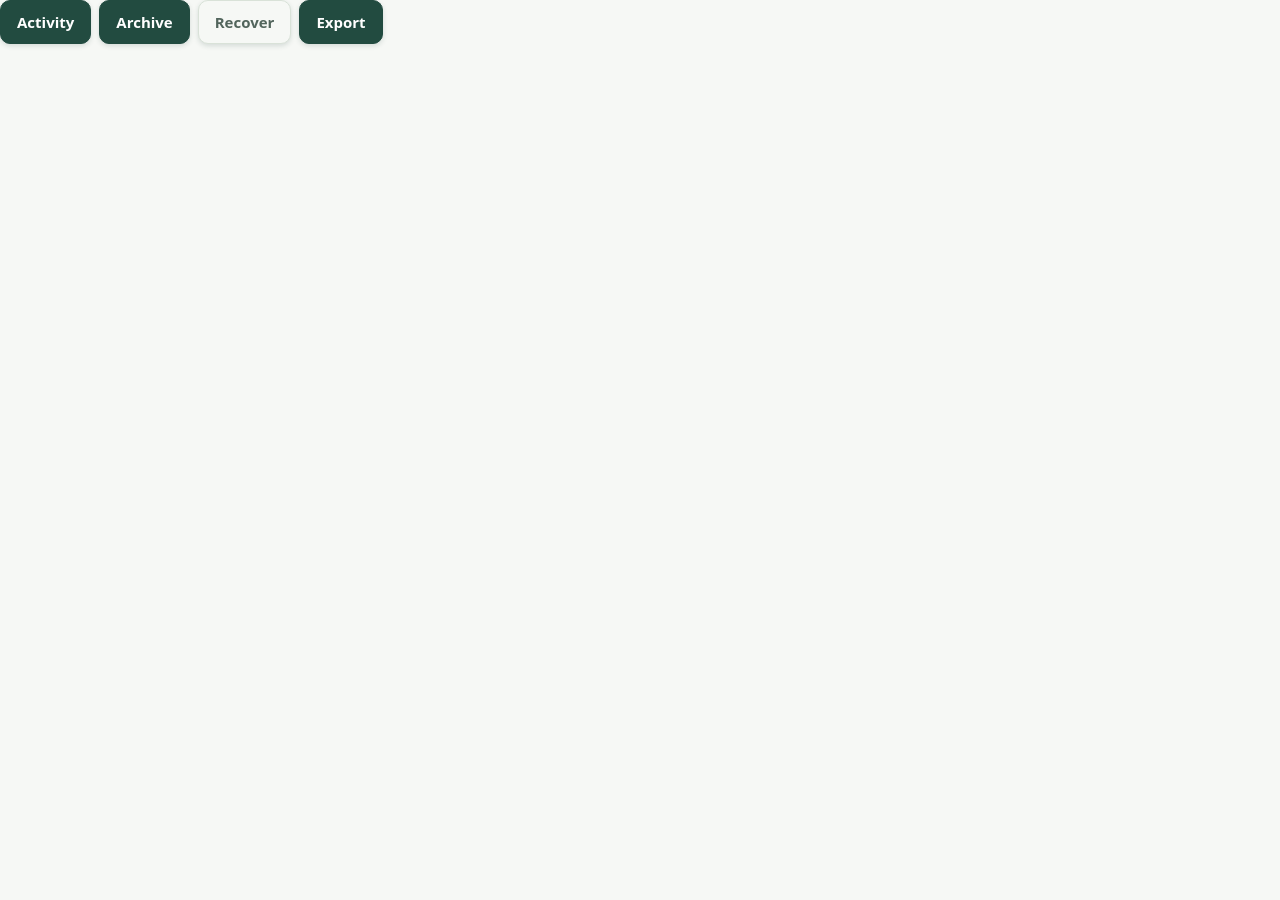
CharacterTools › pages activity with server cursors and reopens the last page stale after going offline
The width and height of the screenshot is (1280, 900).
Click the button "Activity".
click(46, 22)  # box top-left (0, 0), bottom-right (91, 44)
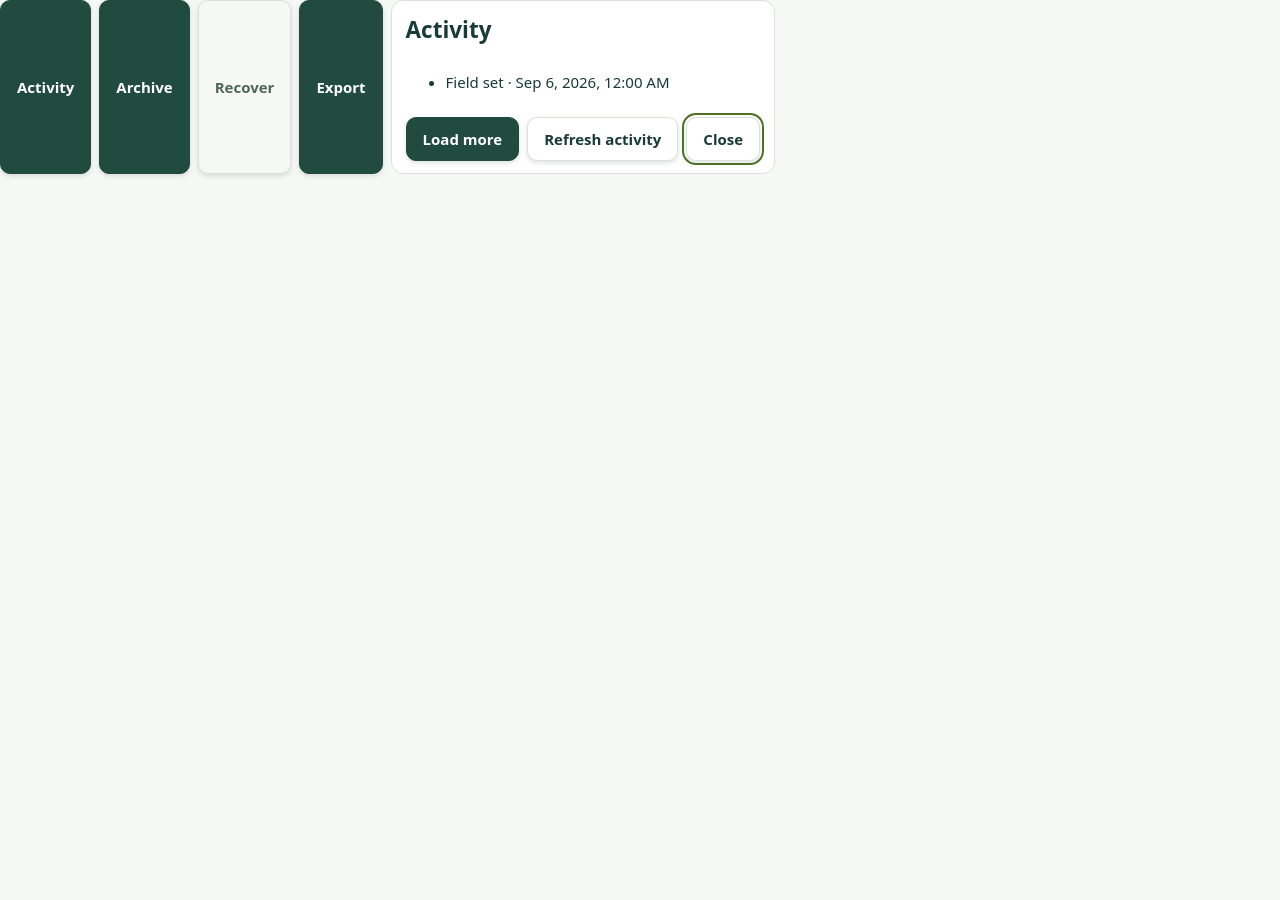
Expected: the text "Field set" is shown, top-left (446, 72), bottom-right (504, 92)
Click the button "Load more".
click(462, 139)  # box top-left (406, 117), bottom-right (519, 161)
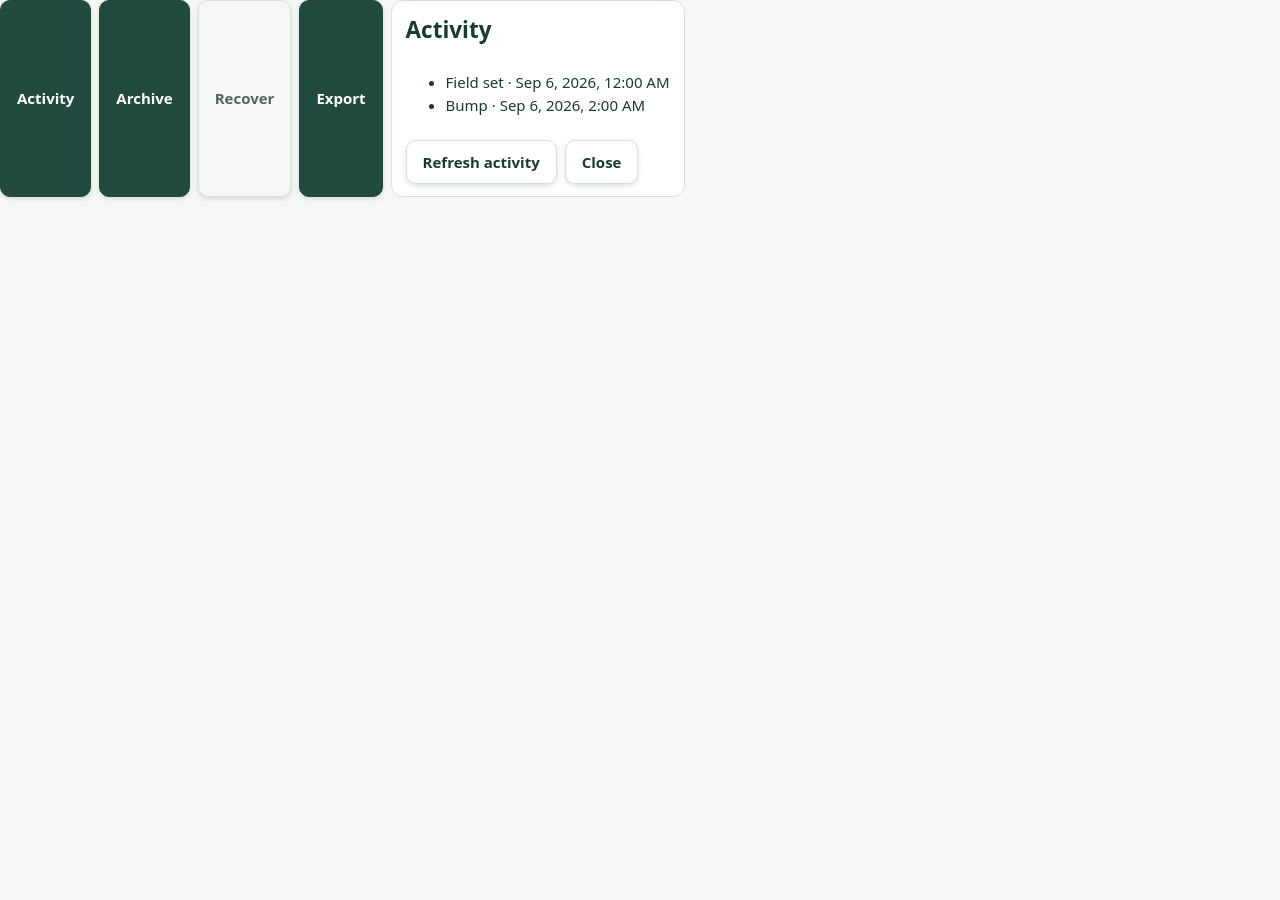
Expected: the text "Bump" is shown, top-left (446, 95), bottom-right (488, 115)
# Close, go offline, reopen: the last fetched page shows marked stale.
Click the button "Close".
click(602, 162)  # box top-left (565, 140), bottom-right (638, 184)
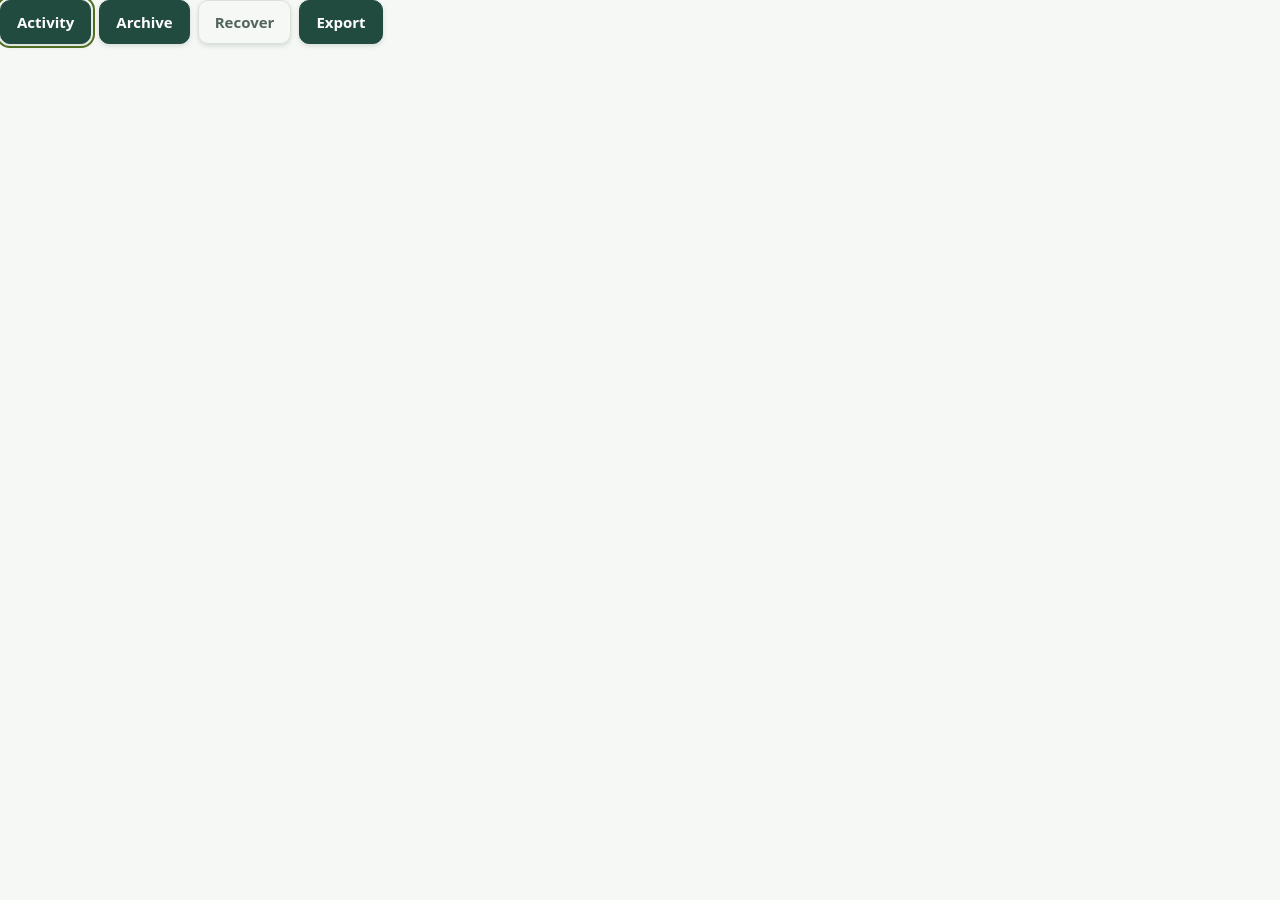
Click the button "Activity".
click(46, 22)  # box top-left (0, 0), bottom-right (91, 44)
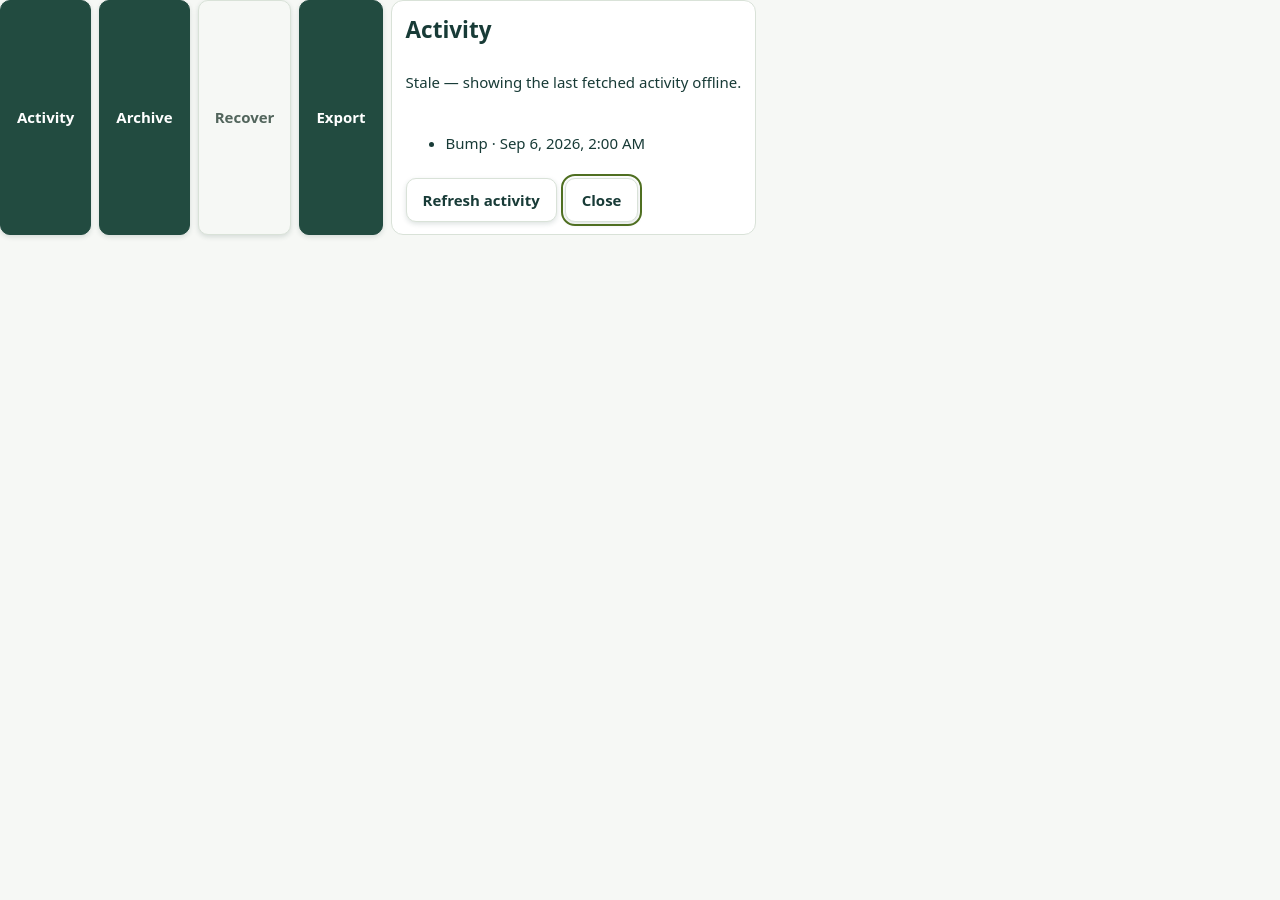
Expected: the text "Bump" is shown, top-left (446, 133), bottom-right (488, 153)
Expected: the text "Stale — showing the last fetched activity offline." is shown, top-left (406, 71), bottom-right (741, 94)
